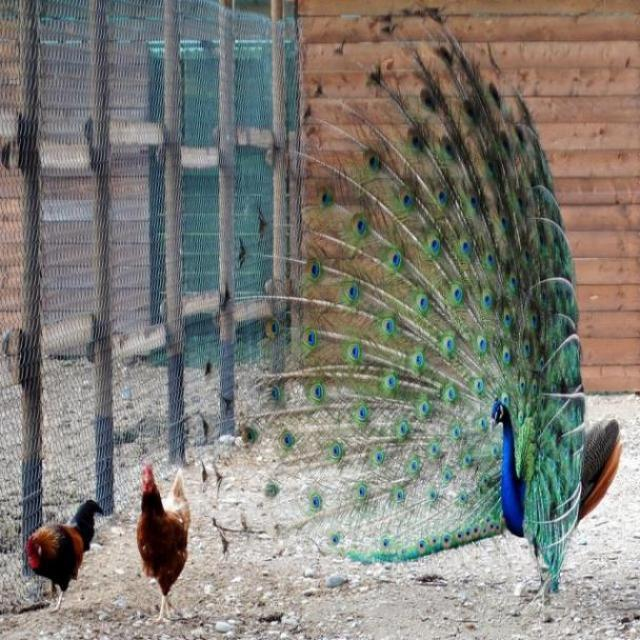Chicken: (25, 495, 111, 615), (136, 461, 192, 617)
